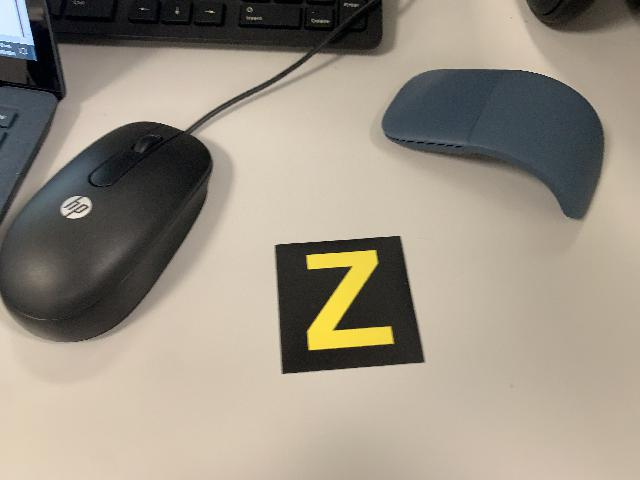alphabet_z: (273, 233, 428, 378)
